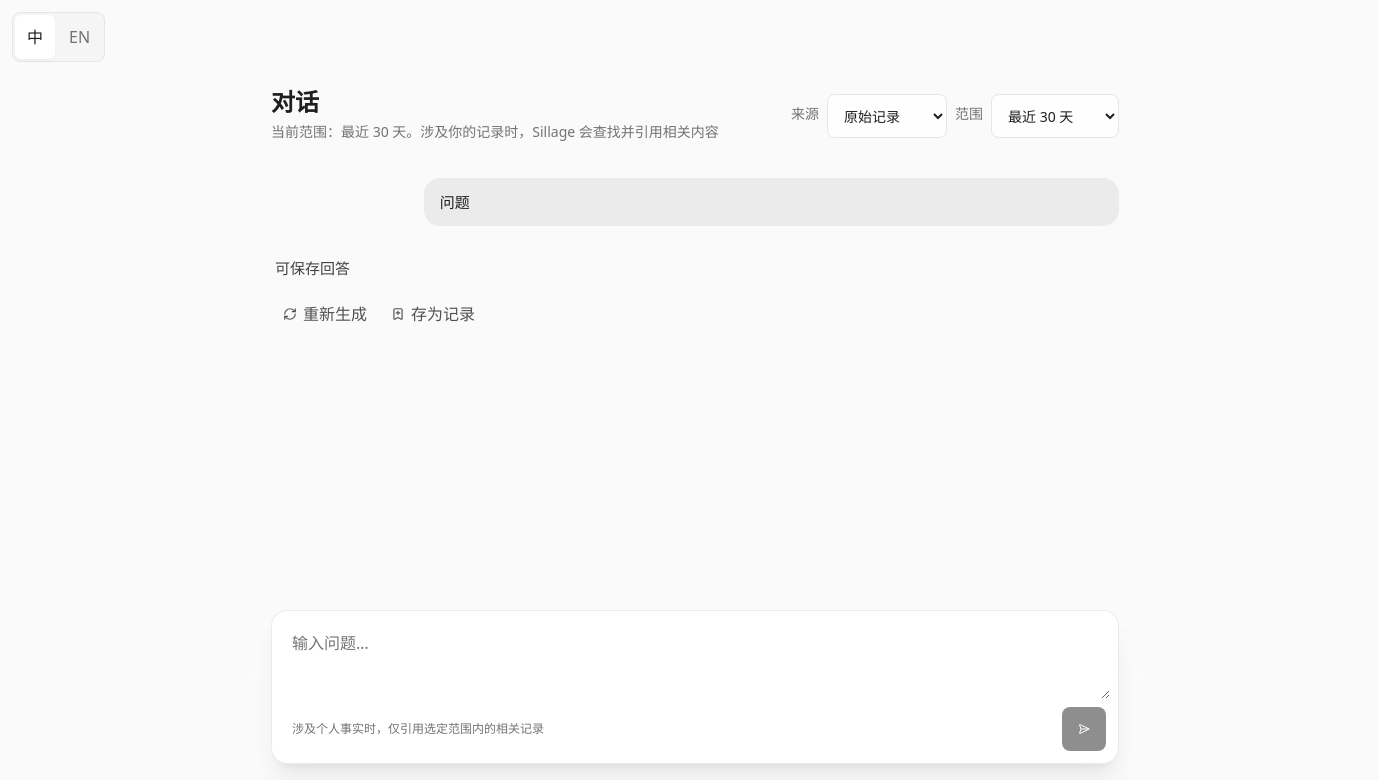
Test case: AskPage › clears a stale save error on language changes without saving again
Expected: the text "可保存回答" is shown, [275,258,350,278]
Click the button "存为记录": (433, 314) [383,294,483,334]
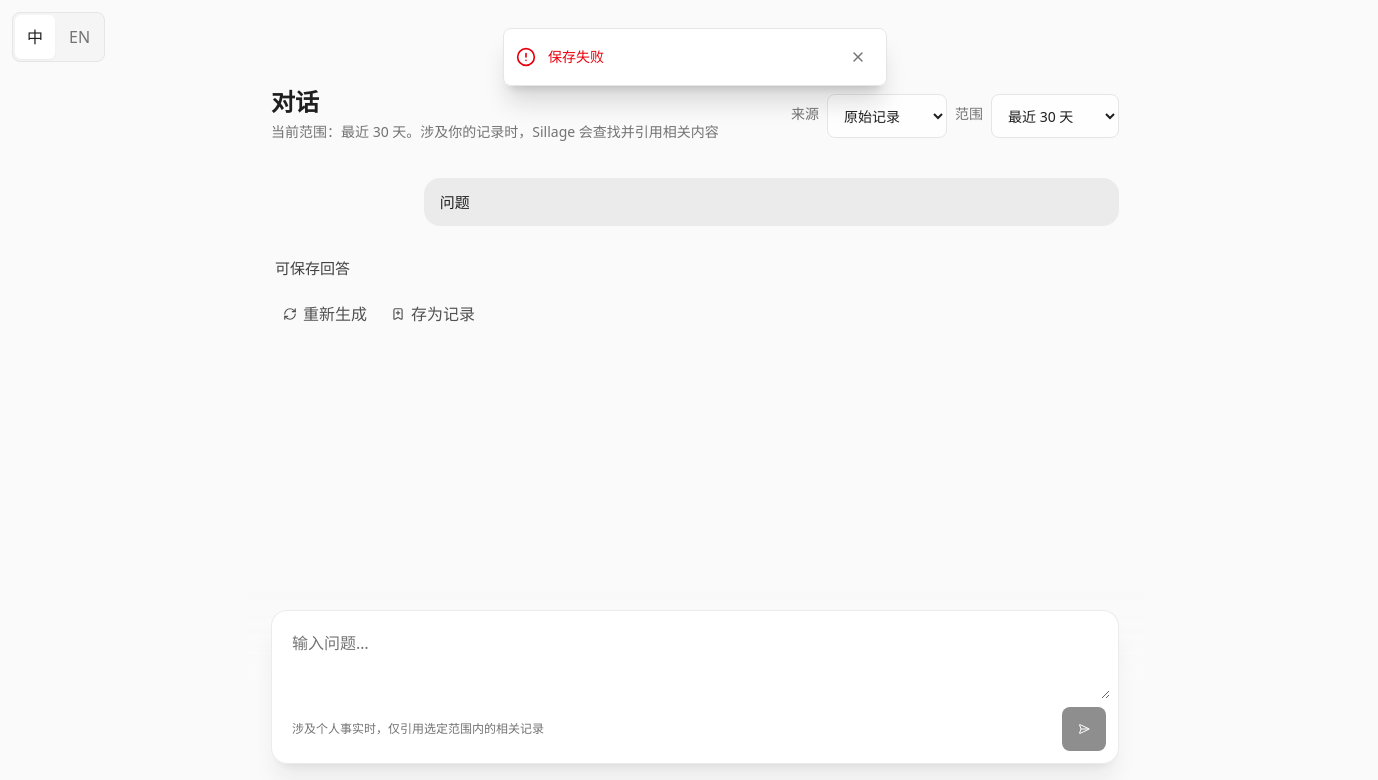
Now the text "保存失败" is shown, box [548,47,604,66]
Click the button named "English": (80, 37) [57,15,102,59]
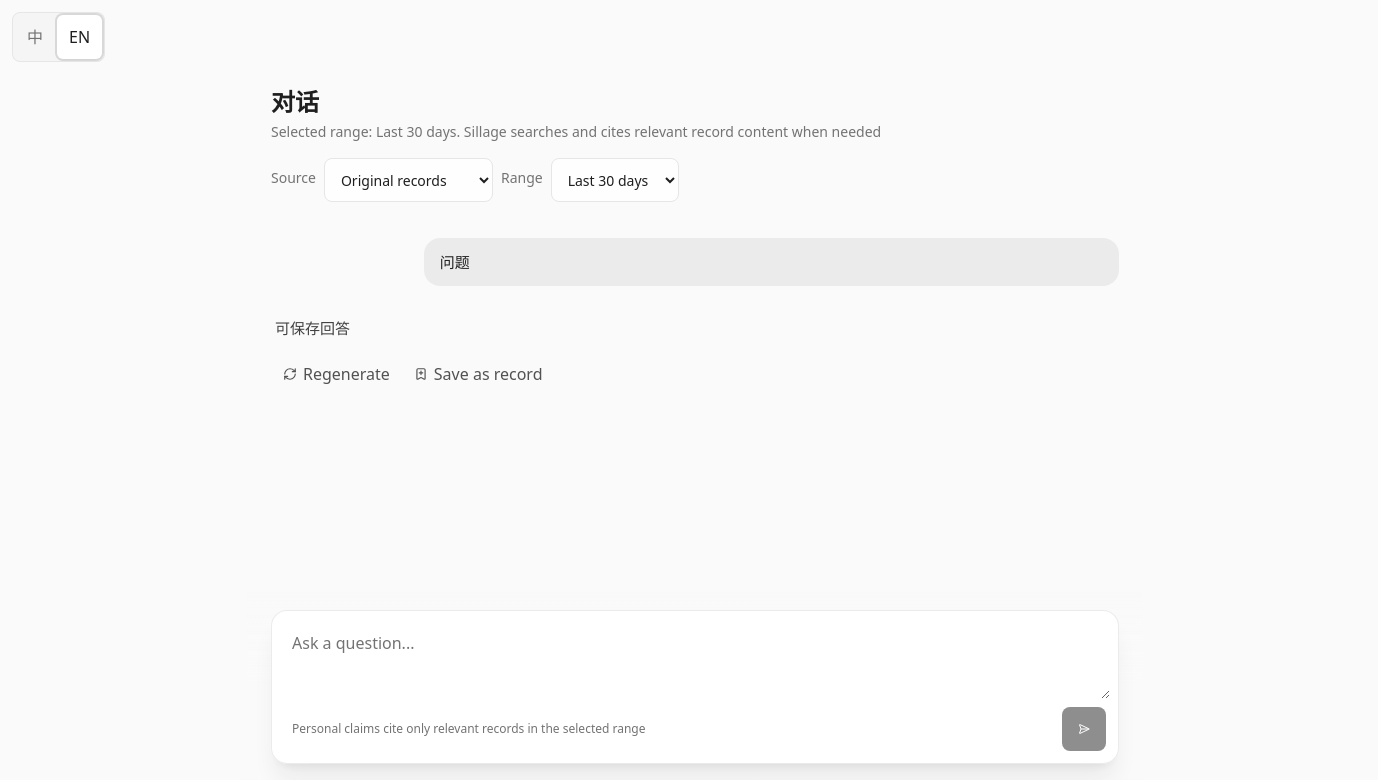
Expected: the text "可保存回答" is shown, [275,318,350,338]
Now the text "保存失败" is gone
